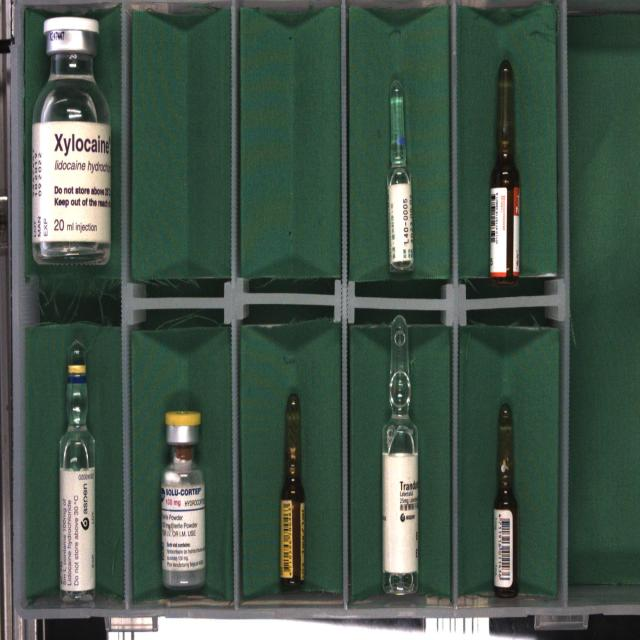Vials: (32, 17, 111, 264), (161, 411, 205, 588)
